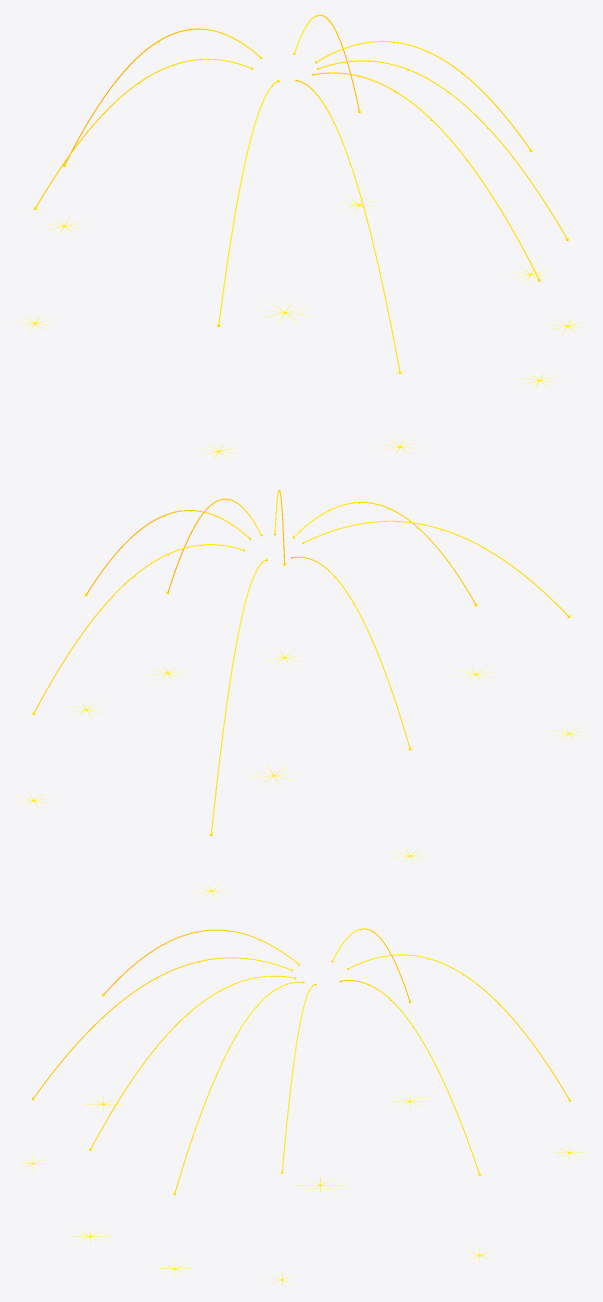
Rendered from hard-pipelines.glb.
3 renders of one model, top to bottom at view 1: azimuth 30°, elevation 25°; view 2: azimuth 150°, elevation 25°; view 3: azimuth 270°, elevation 25°, orthographic. The views are drawn at different scales.
Visible parts, largest first — view 1: no part large enough to name; view 2: no part large enough to name; view 3: hard_pipeline_sia_to_leaderboard.
Part boxes in pixels (bbox=[...]): hard_pipeline_sia_to_leaderboard: bbox=[33, 957, 291, 1097].
Size of the model in its own units: 72 by 38.62 by 89.99.
